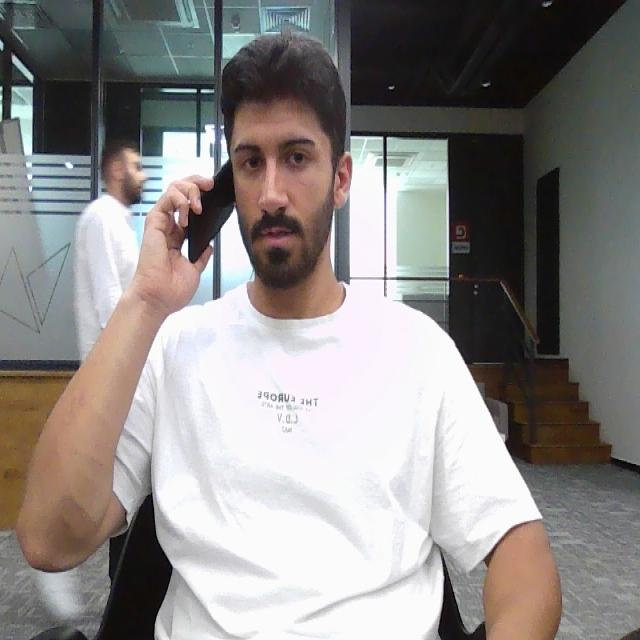phone: (187, 156, 234, 268)
